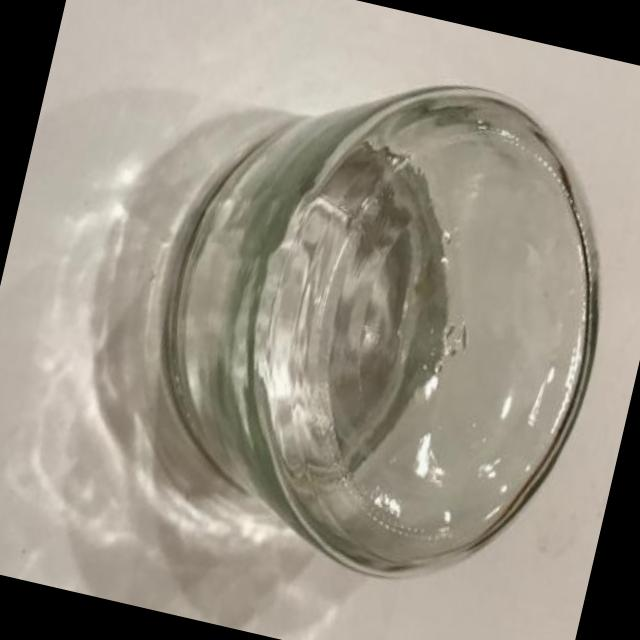chai_thuy_tinh: (154, 85, 593, 577)
